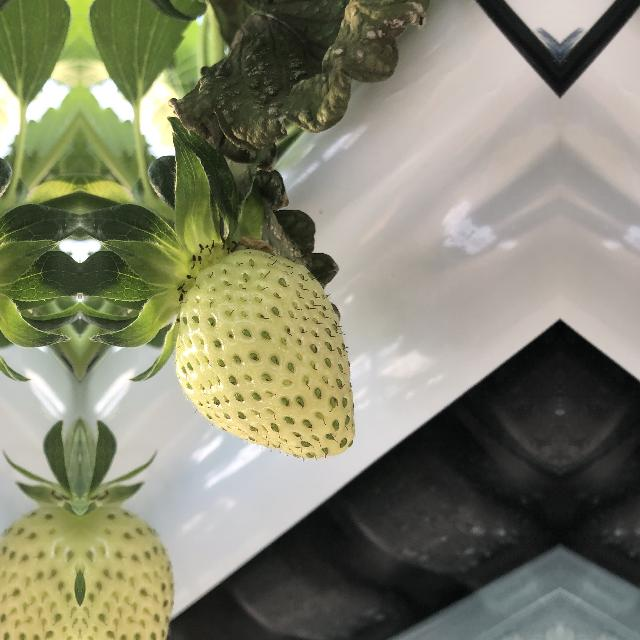Health_25: (174, 246, 360, 460), (80, 500, 178, 640), (0, 500, 80, 640)
